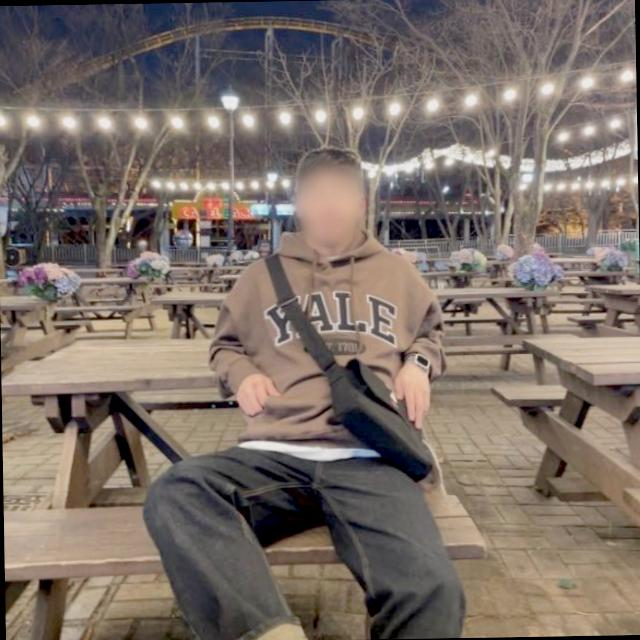denimpants: (140, 441, 468, 640)
hoodies: (205, 226, 451, 485)
